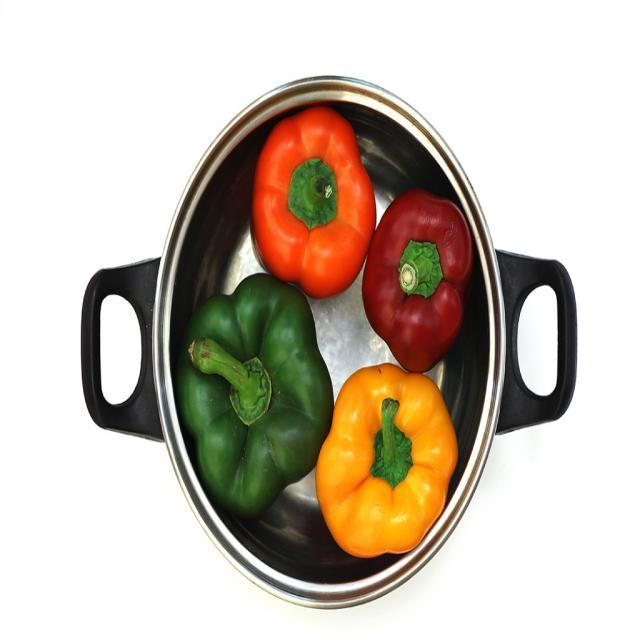Bell pepper: (180, 275, 338, 521), (315, 359, 459, 557), (250, 109, 378, 299), (360, 188, 475, 372)
